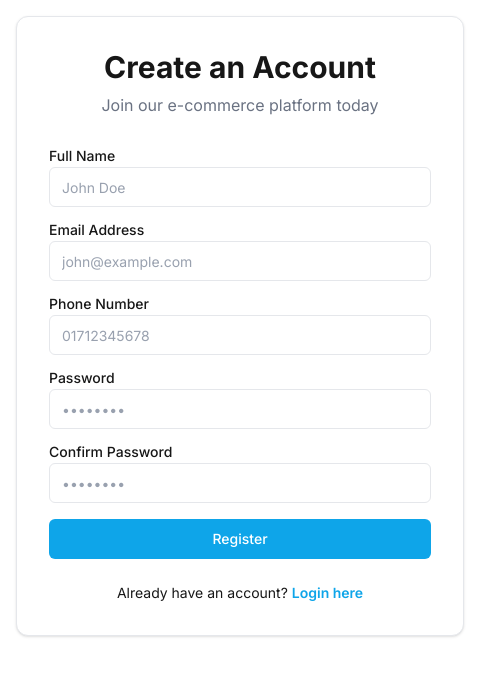
it: RegisterPage › shows validation errors for empty fields
Click the button "Register" at (240, 539), box [49,519,431,559]
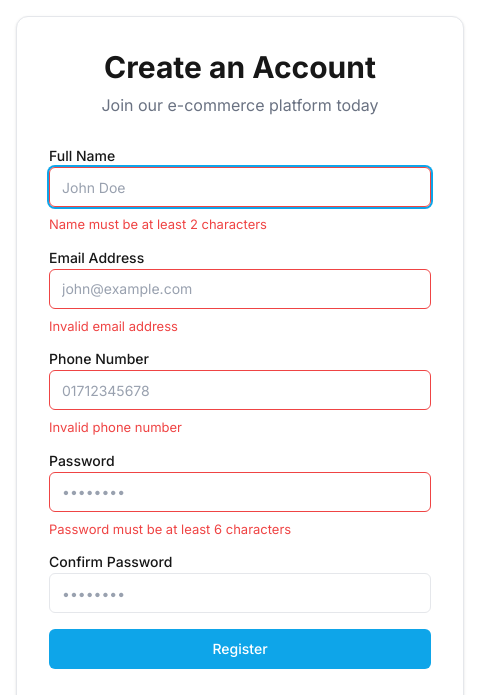
Result: the text "Name must be at least 2 characters" is shown at [49,216,267,232]
Result: the text "Invalid email address" is shown at [49,318,178,334]
